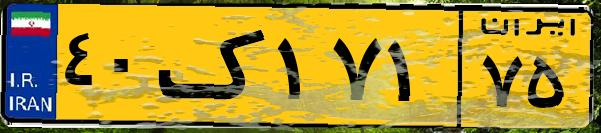0: (110, 28, 158, 98)
1: (270, 28, 330, 110), (385, 28, 445, 110)
4: (57, 26, 110, 100)
5: (525, 38, 570, 115)
7: (330, 28, 385, 110), (475, 38, 525, 113)
ک: (158, 12, 270, 120)
